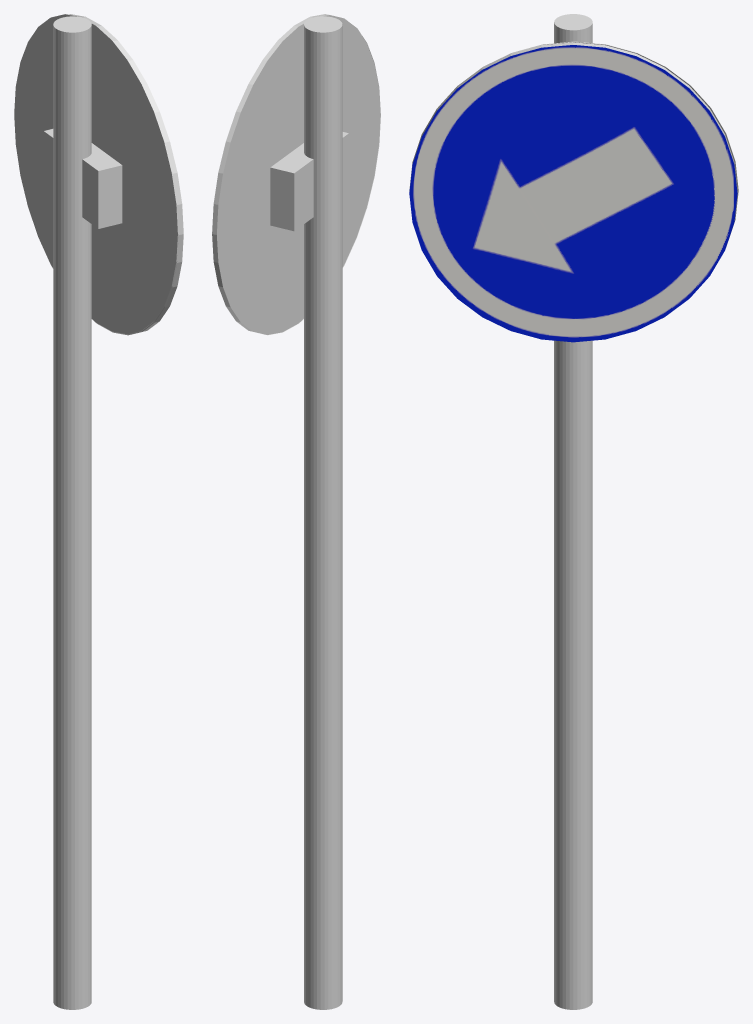
Rendered from JalurKiri.fbx.
The picture shows the model from 3 angles, left to right: view 1: azimuth 30°, elevation 25°; view 2: azimuth 150°, elevation 25°; view 3: azimuth 270°, elevation 25°; orthographic projection.
Visible parts, largest first — view 1: Cylinder, Cylinder.001, Cube; view 2: Cylinder, Cylinder.001, Cube; view 3: Cylinder.001, Cylinder.
Part boxes in pixels (x1,y1,x2,y2): Cylinder: (53,16,91,1009); Cylinder.001: (14,14,183,335); Cube: (43,129,122,228); Cylinder: (304,16,342,1009); Cylinder.001: (212,14,380,335); Cube: (270,132,348,231); Cylinder.001: (409,41,738,342); Cylinder: (554,14,592,1009).
Bounding box in the file's own units: 35.85 × 727 × 222.
